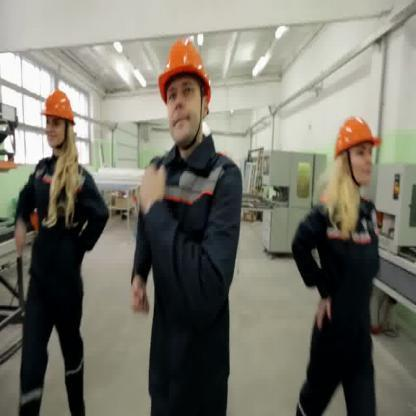helmet: (158, 36, 210, 107), (334, 116, 384, 158), (40, 87, 76, 127)
vest: (127, 131, 249, 415), (15, 155, 111, 415), (290, 191, 385, 415)
